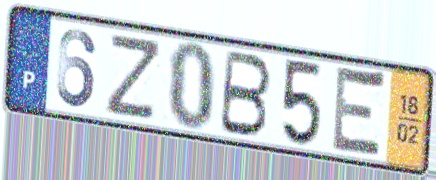0: (162, 39, 218, 134)
5: (278, 55, 327, 150)
6: (55, 27, 98, 110)
B: (216, 47, 274, 140)
E: (328, 61, 389, 165)
Z: (102, 33, 164, 124)
